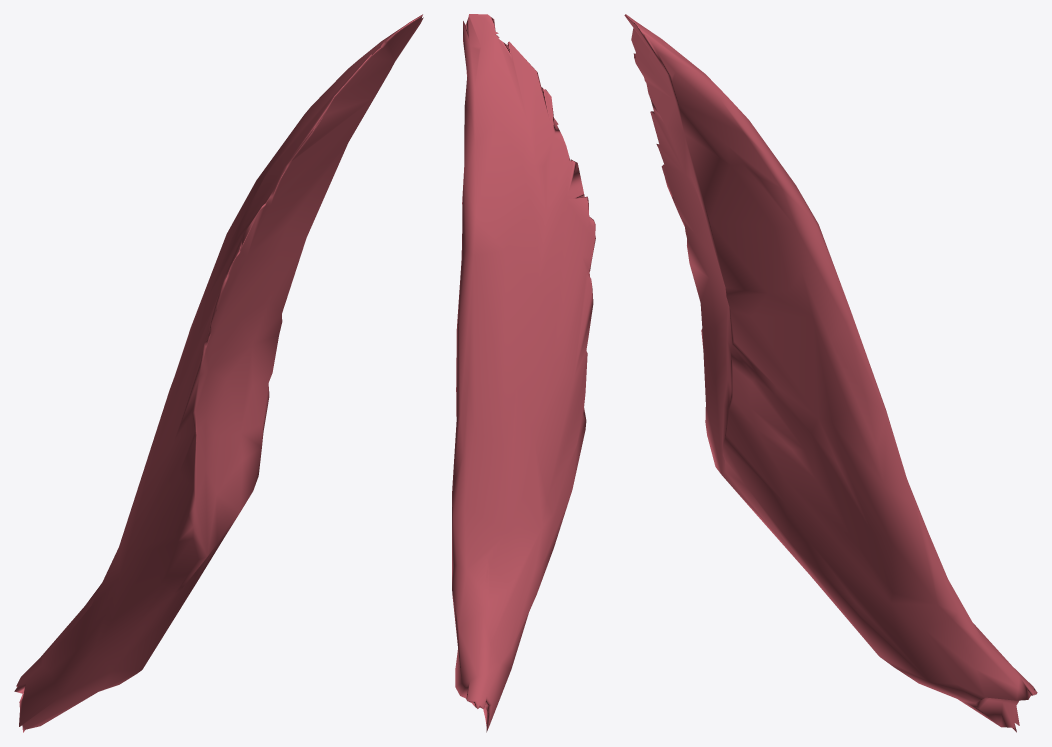
The picture shows the model from 3 angles, left to right: view 1: azimuth 30°, elevation 25°; view 2: azimuth 150°, elevation 25°; view 3: azimuth 270°, elevation 25°; orthographic projection. The views are drawn at different scales.
Visible parts, largest first — view 1: 右侧头上斜肌; view 2: 右侧头上斜肌; view 3: 右侧头上斜肌.
Boxes of the visible parts, left/top/right/bottom form: 右侧头上斜肌: left=14, top=14, right=423, bottom=732; 右侧头上斜肌: left=452, top=14, right=595, bottom=732; 右侧头上斜肌: left=624, top=14, right=1037, bottom=732.
Size of the model in its own units: 0.0211 by 0.0734 by 0.0338.
